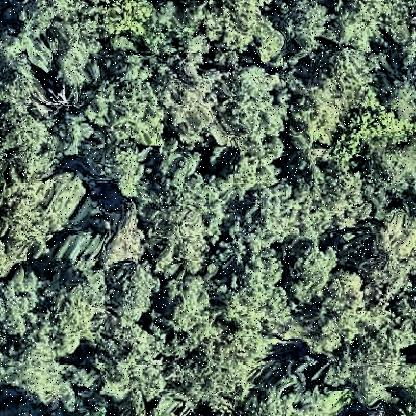tree-top: (2, 262, 110, 394), (81, 72, 164, 194), (137, 173, 225, 280), (166, 325, 282, 405), (205, 68, 299, 164), (187, 4, 294, 72), (235, 171, 307, 253), (339, 327, 416, 401), (359, 211, 416, 296), (262, 367, 352, 416), (278, 240, 336, 308), (159, 272, 219, 332)
